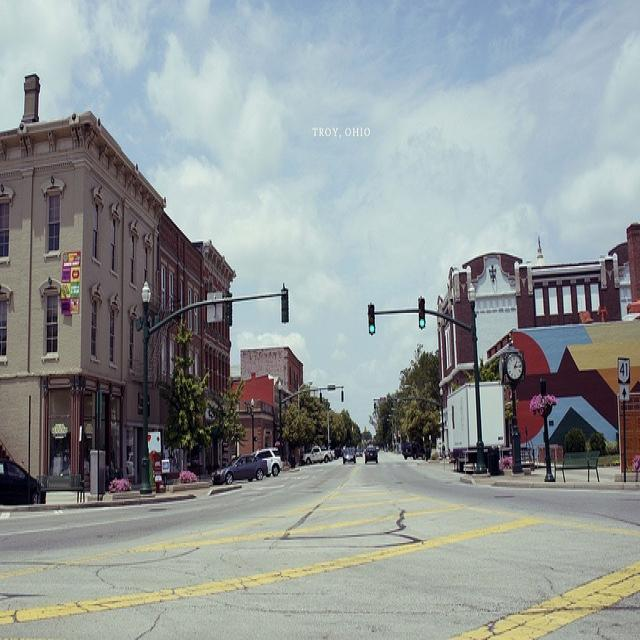car: (0, 460, 44, 504), (213, 452, 266, 482), (249, 444, 282, 476), (400, 438, 424, 459), (363, 441, 377, 462), (341, 444, 354, 464), (355, 448, 361, 456), (329, 448, 334, 456)
pole: (469, 300, 487, 472), (138, 304, 150, 492)
truck: (446, 378, 505, 472), (298, 443, 330, 463)
